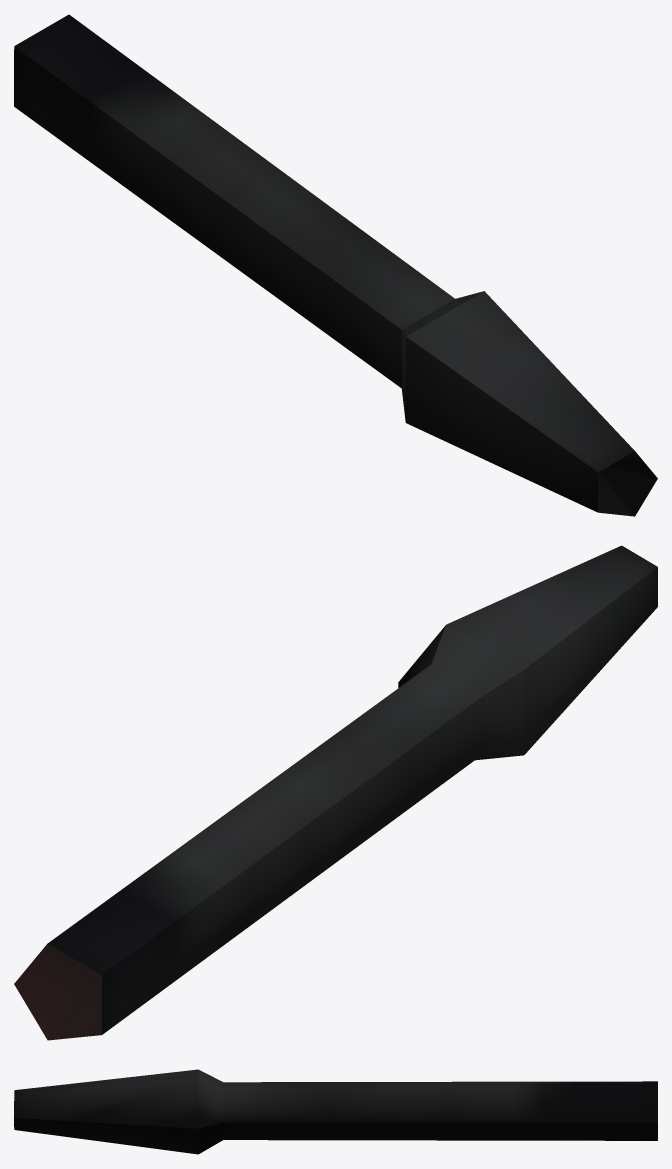
The model's file is nuclear_missile.fbx.
3 renders of one model, top to bottom at view 1: azimuth 30°, elevation 25°; view 2: azimuth 150°, elevation 25°; view 3: azimuth 270°, elevation 25°, orthographic. The views are drawn at different scales.
Visible parts, largest first — view 1: Mesh_orient; view 2: Mesh_orient; view 3: Mesh_orient.
Boxes of the visible parts, x1,y1,x2,y2 form: Mesh_orient: (14, 14, 657, 516); Mesh_orient: (14, 545, 657, 1040); Mesh_orient: (14, 1069, 657, 1154).
Size of the model in its own units: 0.3167 by 0.3327 by 2.47.
1 material, 1 textured.
